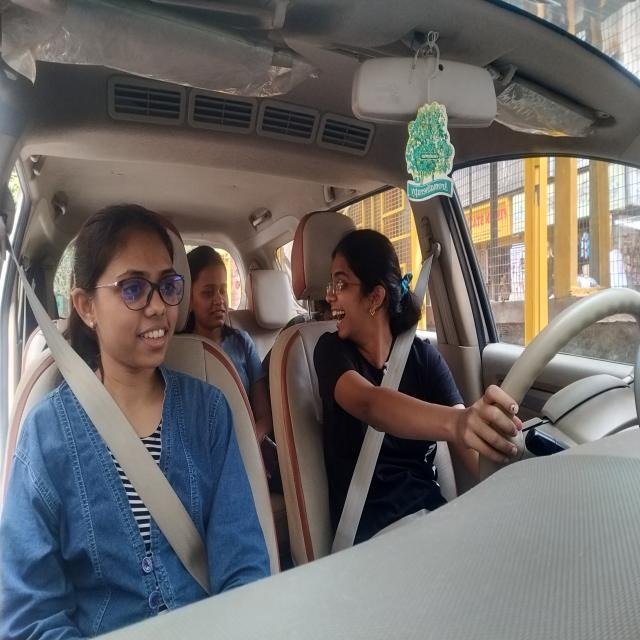LeftRight: (328, 227, 412, 380)
person: (69, 208, 188, 376), (190, 242, 232, 347)
talking: (331, 306, 348, 331)
